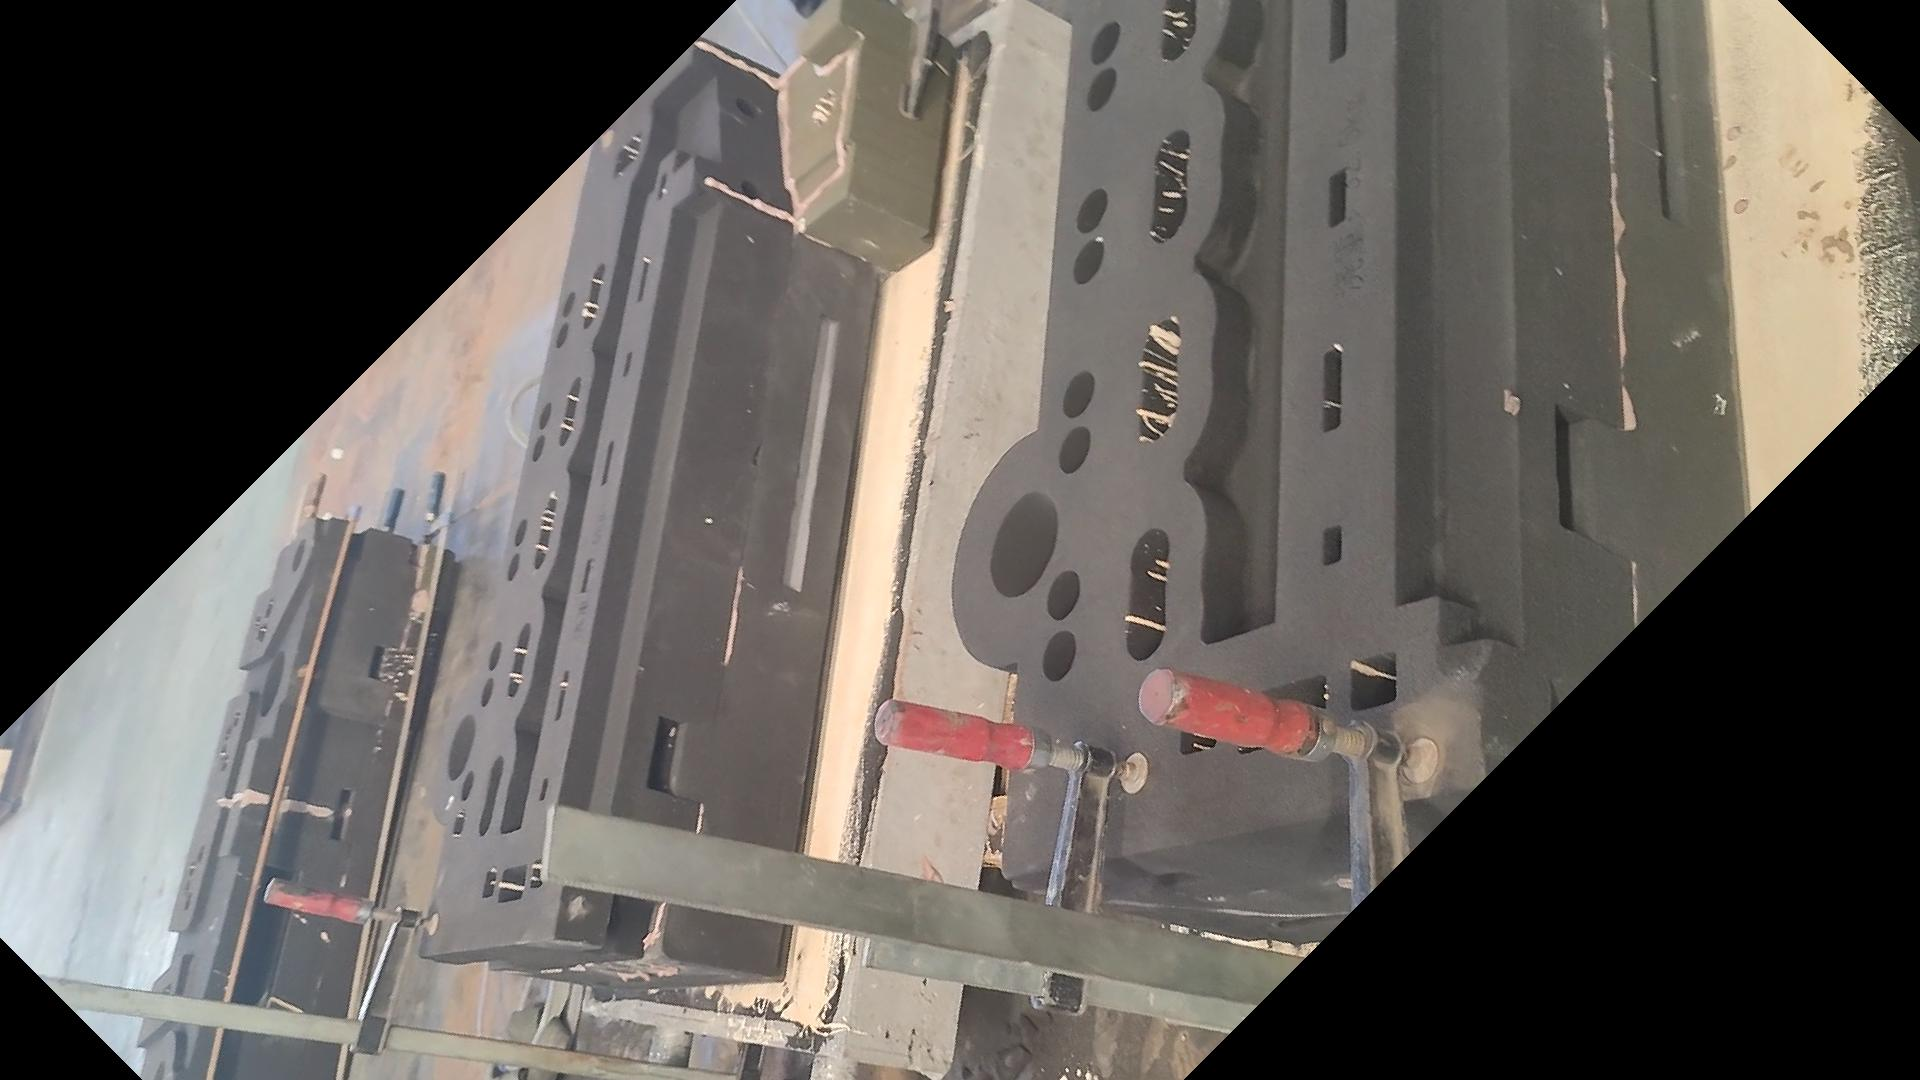pouring hole: (990, 485, 1059, 597), (448, 713, 476, 781), (290, 538, 305, 571), (152, 1062, 165, 1080)
